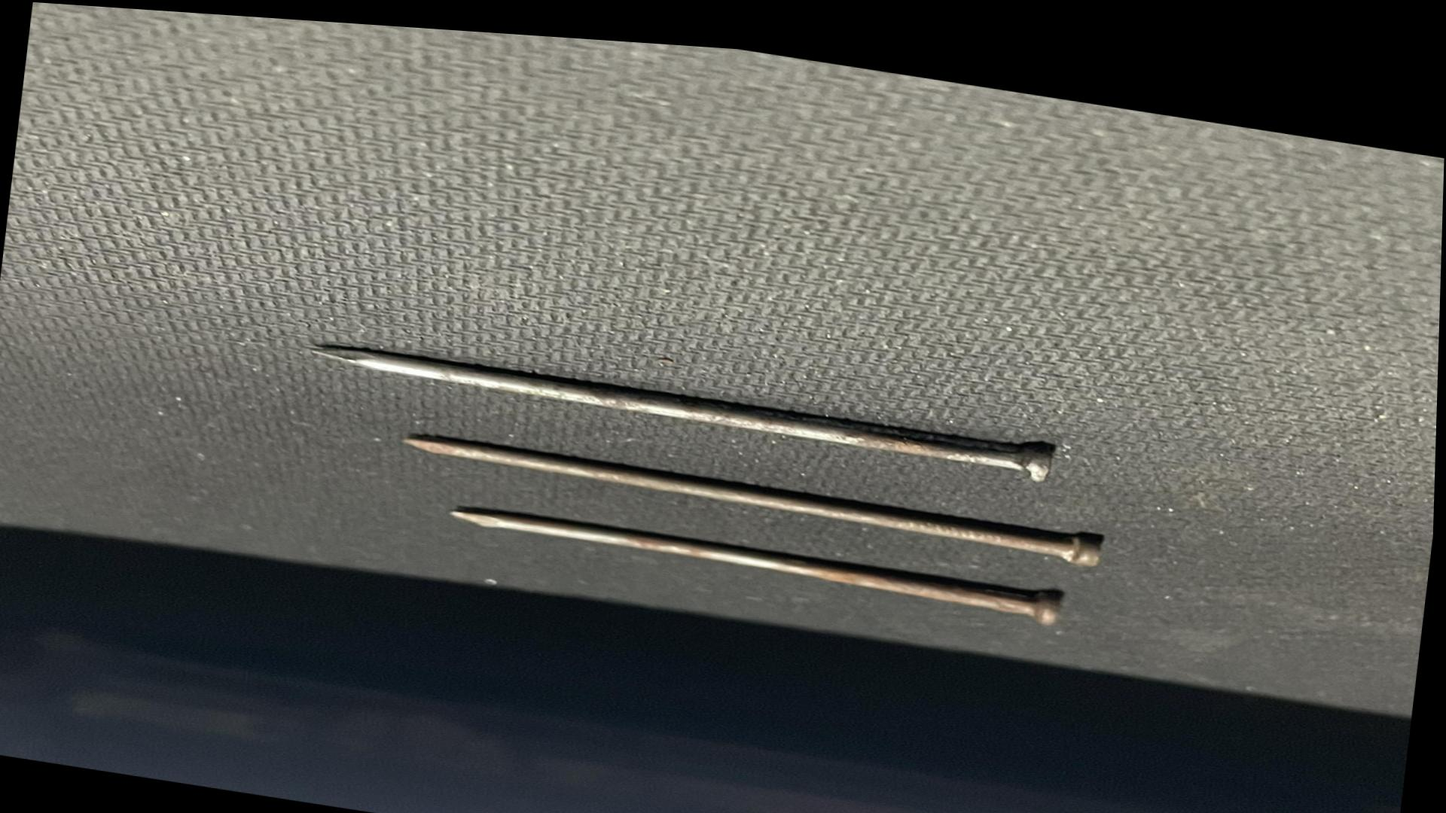nail: (297, 307, 1097, 480), (361, 394, 1145, 562), (418, 471, 1115, 636)
